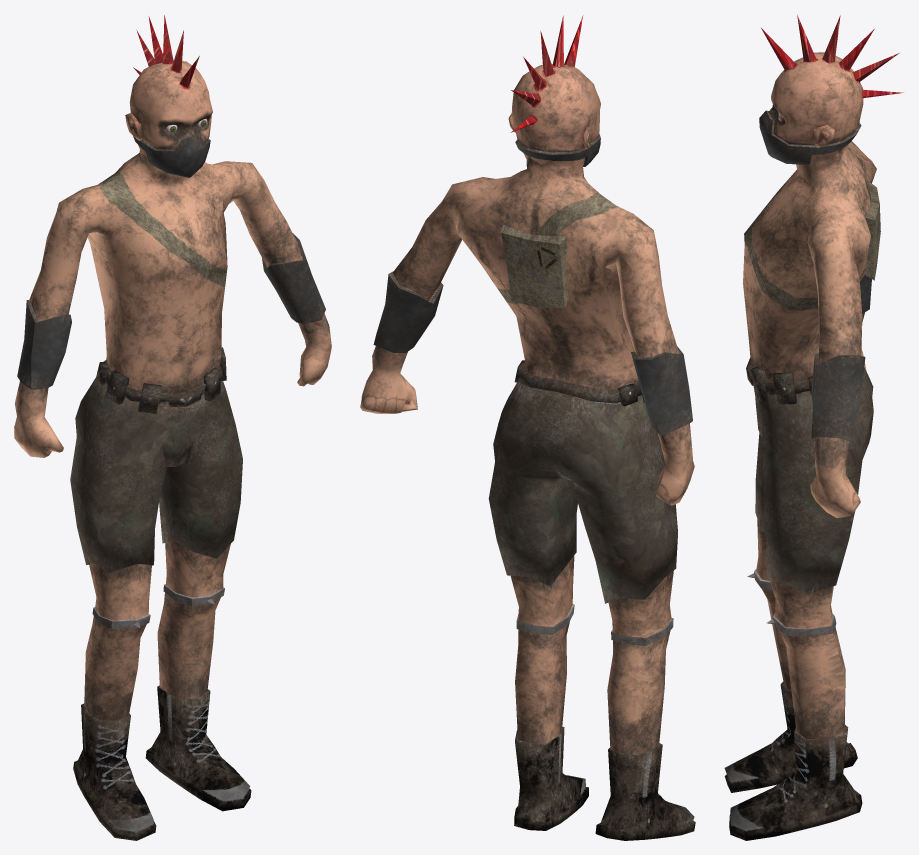
Rendered from Anim_ganar_1_npc2.0043.obj.
3 views of the same model, side by side, from view 1: azimuth 30°, elevation 25°; view 2: azimuth 150°, elevation 25°; view 3: azimuth 270°, elevation 25° (orthographic). The views are drawn at different scales.
Visible parts, largest first — view 1: polySurface1; view 2: polySurface1; view 3: polySurface1.
Part boxes in pixels (<box>): polySurface1: <box>14,15,331,840</box>; polySurface1: <box>360,15,695,840</box>; polySurface1: <box>724,15,903,840</box>.
Bounding box in the file's own units: 4.38 × 10.37 × 2.08.
2 materials, 2 textured.
